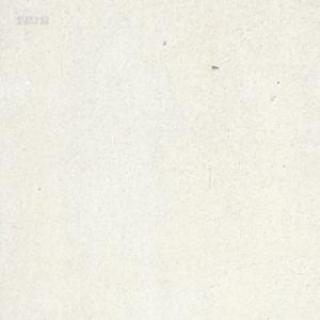Nailtrack_idkeyframe: (210, 63, 218, 68)
